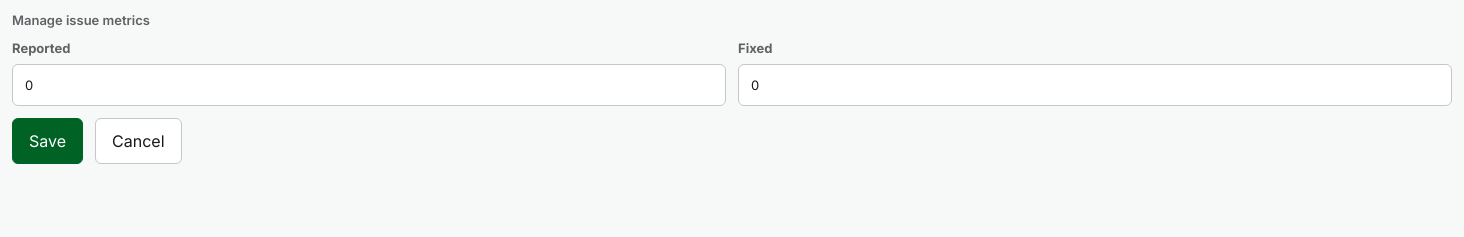
requires week and project before saving issue metrics
The image size is (1464, 237).
Click the button "Save".
click(48, 141)  # box [12,118,83,164]
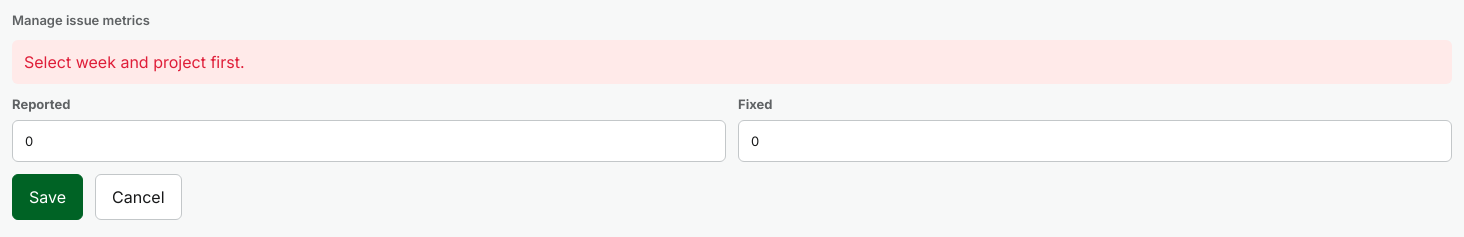
Check: the text "Select week and project first." is shown, box [12,40,1452,84]
